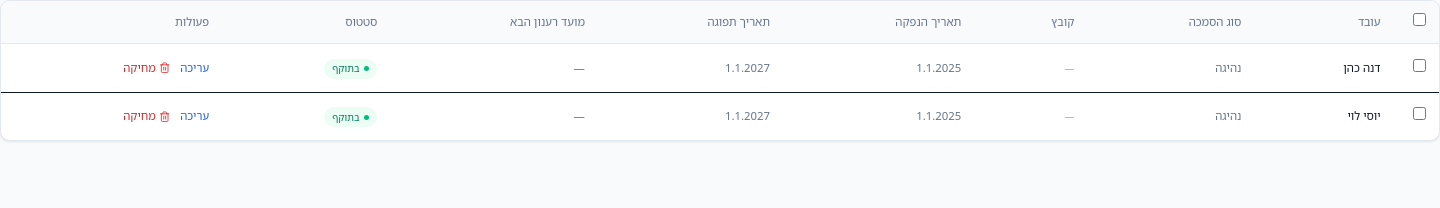
Test: CertificationsList — selection UI › shows the bulk action bar with count when at least one row is selected
The width and height of the screenshot is (1440, 208).
Click the checkbox named "בחר דנה כהן — נהיגה": [1420, 66] box left=1413, top=59, right=1426, bottom=72
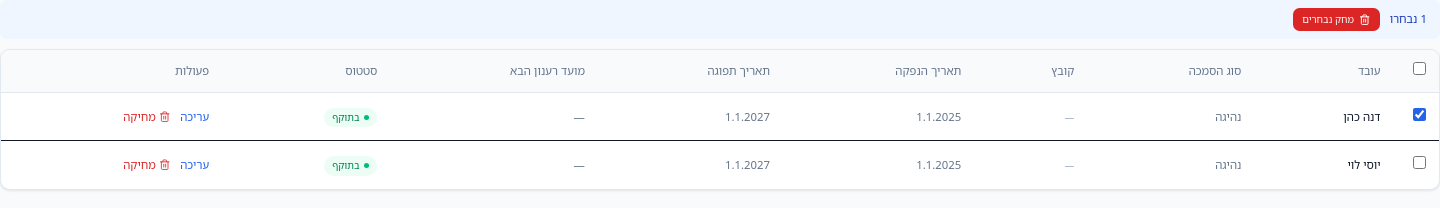
Check: the text "1 נבחרו" is shown, box left=1390, top=11, right=1427, bottom=28
Click the checkbox named "בחר יוסי לוי — נהיגה": [1420, 163] box left=1413, top=156, right=1426, bottom=169
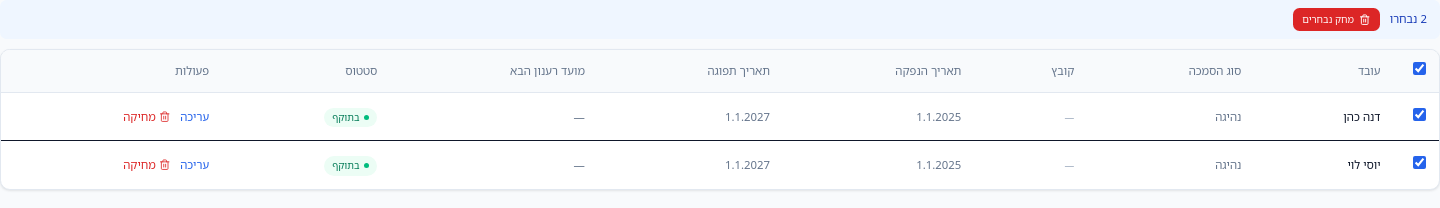
Check: the button "מחק נבחרים" is shown, box left=1292, top=8, right=1380, bottom=31
Check: the text "2 נבחרו" is shown, box left=1390, top=11, right=1427, bottom=28
